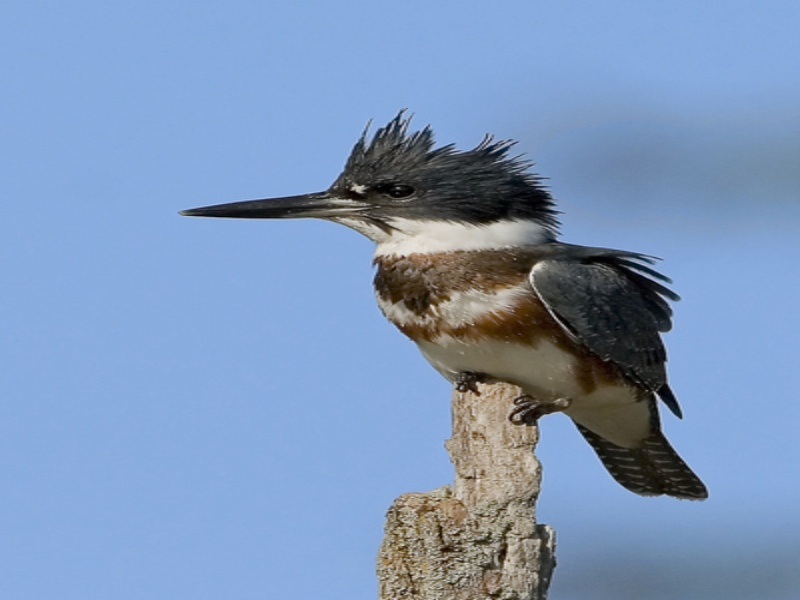kingfisher: (176, 106, 719, 509)
